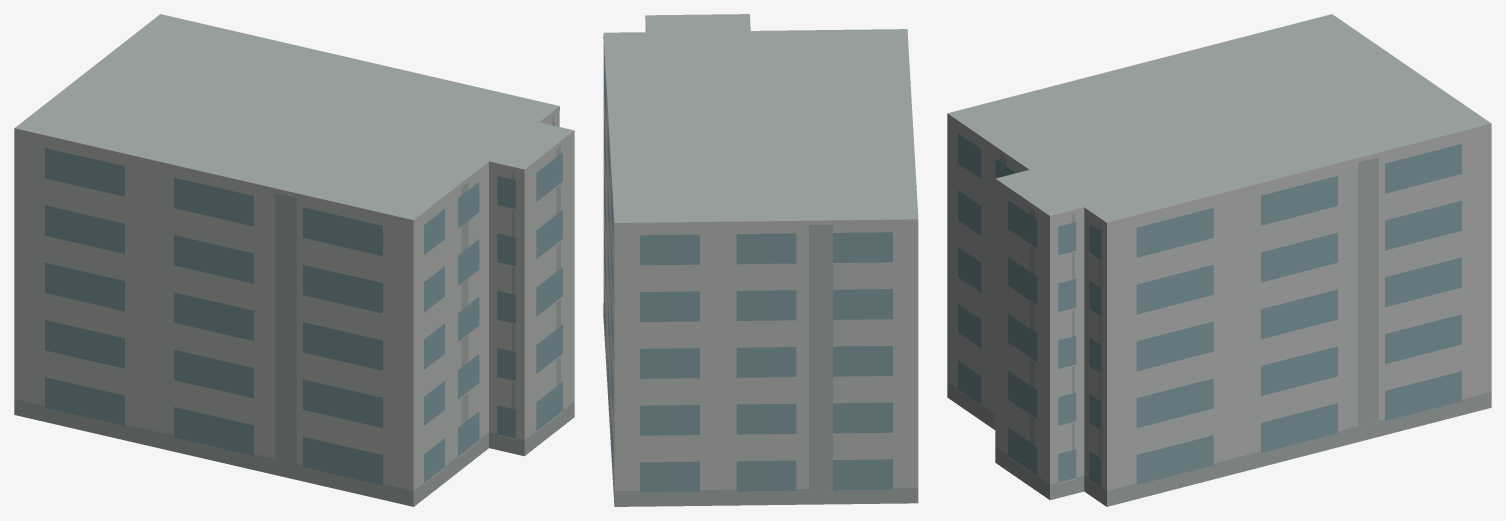
File: survey-upis-32915667.glb
3 views of the same model, side by side, from view 1: azimuth 30°, elevation 25°; view 2: azimuth 150°, elevation 25°; view 3: azimuth 270°, elevation 25° (orthographic).
Visible parts, largest first — view 1: survey-upis-32915667.tmp; view 2: survey-upis-32915667.tmp; view 3: survey-upis-32915667.tmp.
Part boxes in pixels (x1,y1,x2,y2): survey-upis-32915667.tmp: (14, 14, 574, 506); survey-upis-32915667.tmp: (603, 14, 918, 506); survey-upis-32915667.tmp: (947, 14, 1491, 506).
Size of the model in its own units: 24.28 by 15.4 by 26.75.
